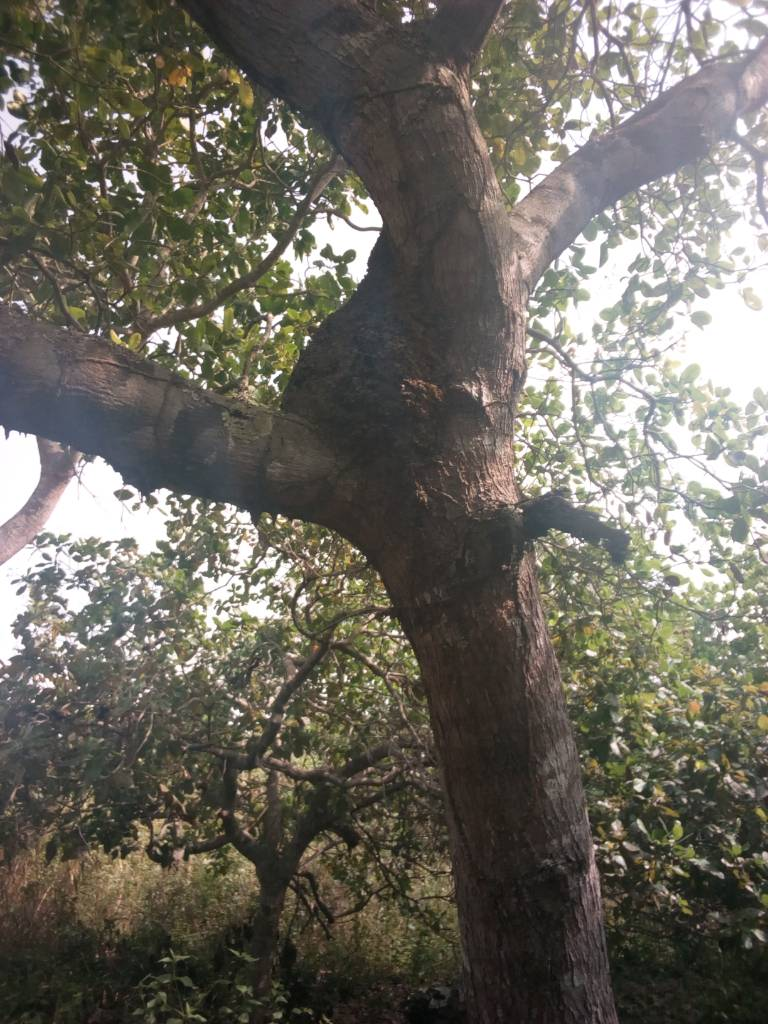Termites: (290, 296, 452, 442)
